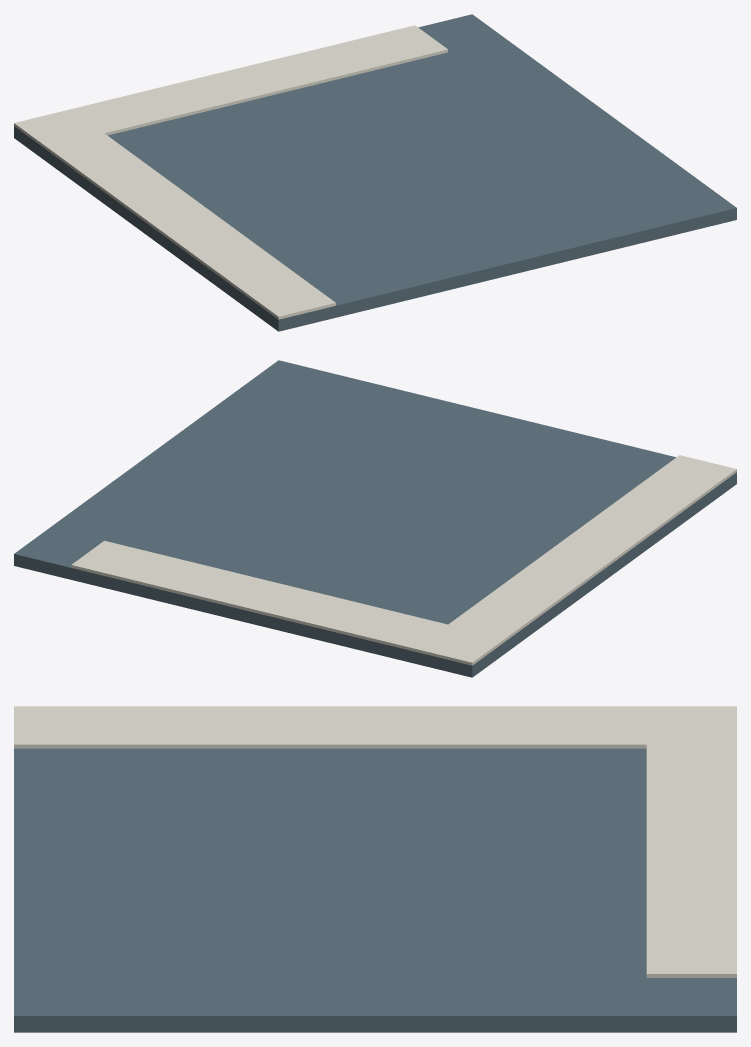
The model's file is voxel-city-districts-road-corner-9999806c__24815.glb.
3 renders of one model, top to bottom at view 1: azimuth 30°, elevation 25°; view 2: azimuth 150°, elevation 25°; view 3: azimuth 270°, elevation 25°, orthographic. The views are drawn at different scales.
Visible parts, largest first — view 1: road-corner-dark, road-corner-concrete; view 2: road-corner-dark, road-corner-concrete; view 3: road-corner-dark, road-corner-concrete.
Boxes of the visible parts, x1=… form: road-corner-dark: x1=14, y1=14, x2=736, y2=331; road-corner-concrete: x1=14, y1=25, x2=447, y2=319; road-corner-dark: x1=14, y1=360, x2=736, y2=677; road-corner-concrete: x1=71, y1=455, x2=736, y2=665; road-corner-dark: x1=14, y1=748, x2=736, y2=1032; road-corner-concrete: x1=14, y1=706, x2=736, y2=977.
Size of the model in its own units: 8 by 0.25 by 8.
